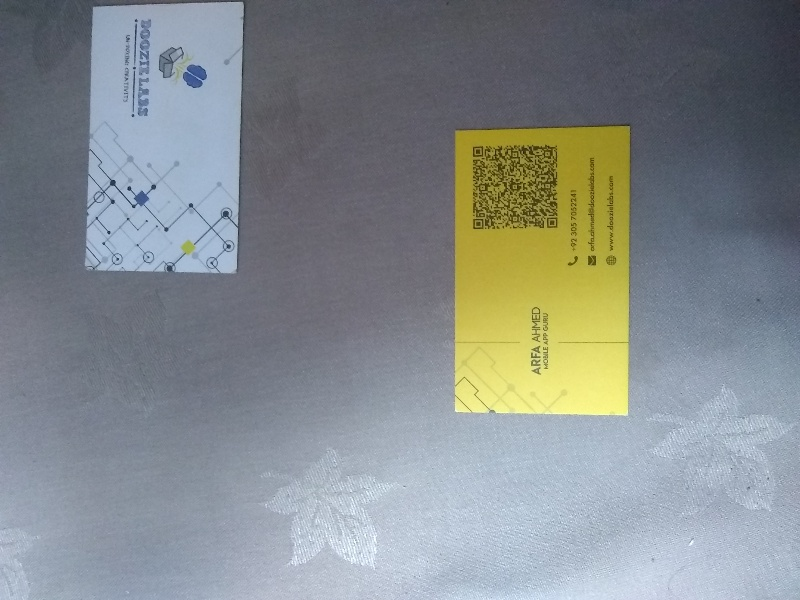back: (81, 4, 243, 272)
front: (451, 124, 635, 419)
